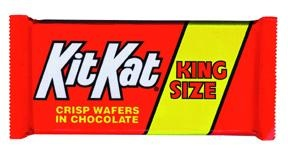grozi_30: (9, 15, 277, 139)
